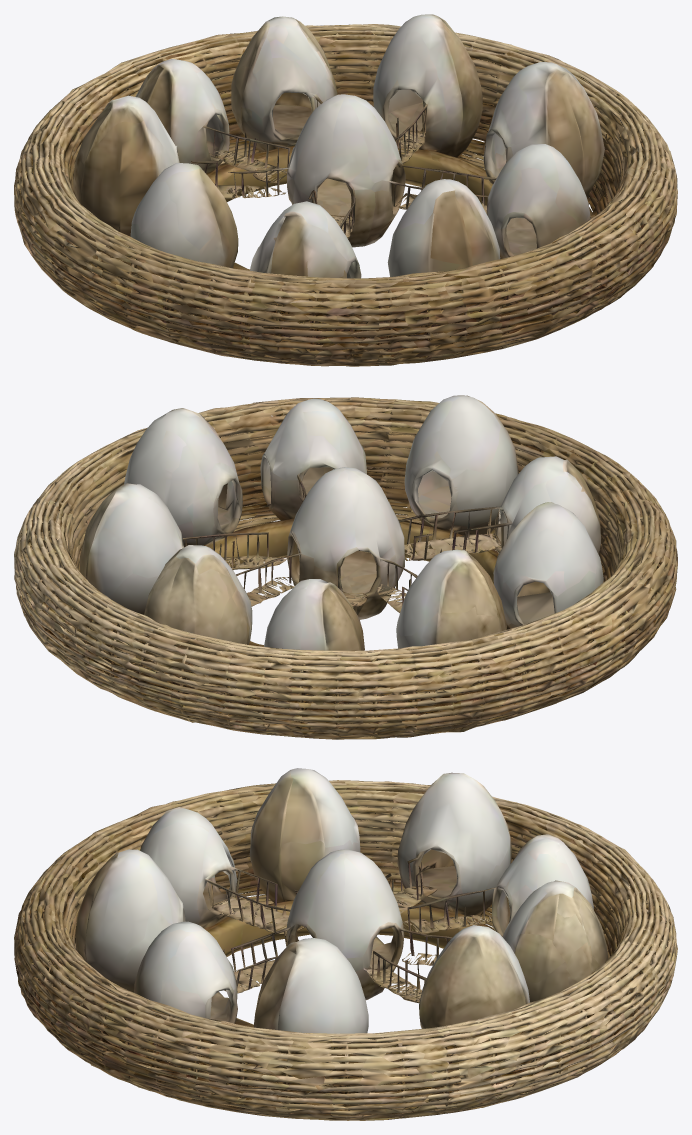
File: nest.glb
3 renders of one model, top to bottom at view 1: azimuth 30°, elevation 25°; view 2: azimuth 150°, elevation 25°; view 3: azimuth 270°, elevation 25°, orthographic.
Parts seen in each view (by area): view 1: tripo_node_b898416e-957c-499a-8f57-6530aafaf1b2; view 2: tripo_node_b898416e-957c-499a-8f57-6530aafaf1b2; view 3: tripo_node_b898416e-957c-499a-8f57-6530aafaf1b2.
Boxes of the visible parts, x1,y1,x2,y2 form: tripo_node_b898416e-957c-499a-8f57-6530aafaf1b2: (14, 14, 677, 366); tripo_node_b898416e-957c-499a-8f57-6530aafaf1b2: (14, 395, 677, 739); tripo_node_b898416e-957c-499a-8f57-6530aafaf1b2: (14, 768, 677, 1120).
Bounding box in the file's own units: 0.9791 × 0.2422 × 0.9783.
Materials: 1 (1 with a texture image).
